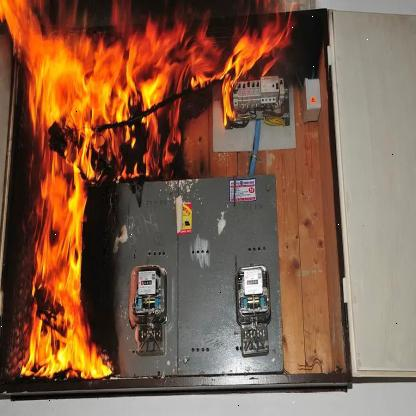fire: (0, 0, 303, 380)
